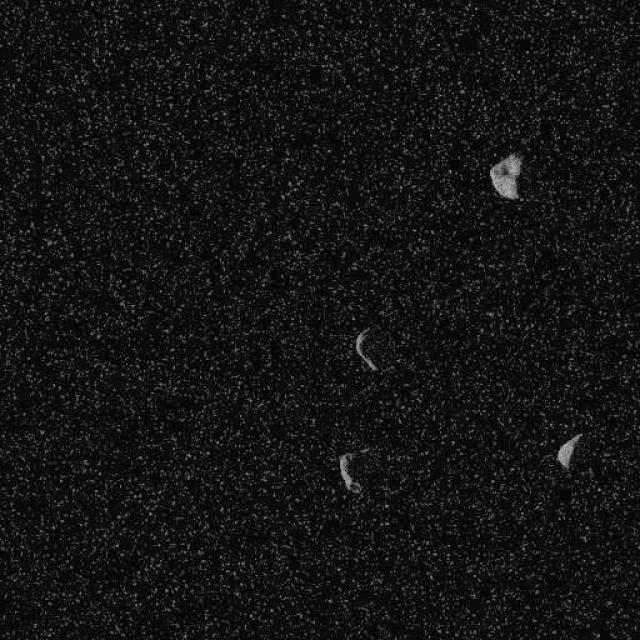D2: (488, 151, 522, 200), (337, 450, 365, 494), (354, 325, 378, 373), (555, 431, 583, 470)
